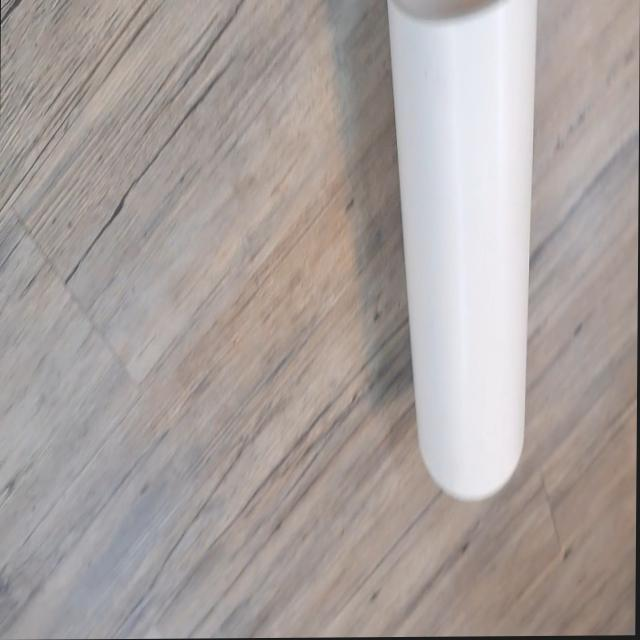CORAL: (374, 0, 542, 508)
